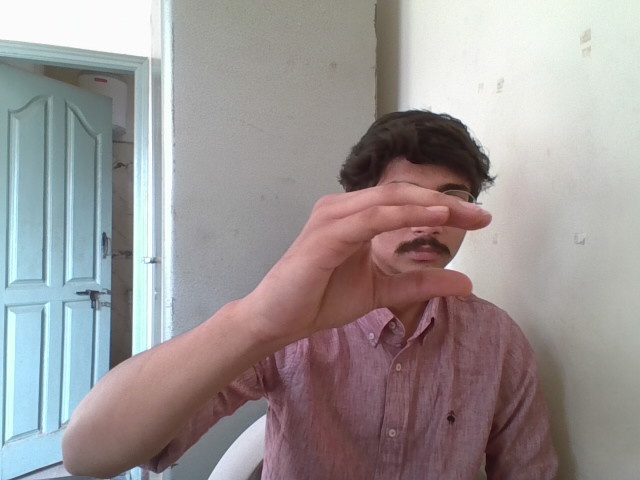no: (255, 177, 499, 336)
